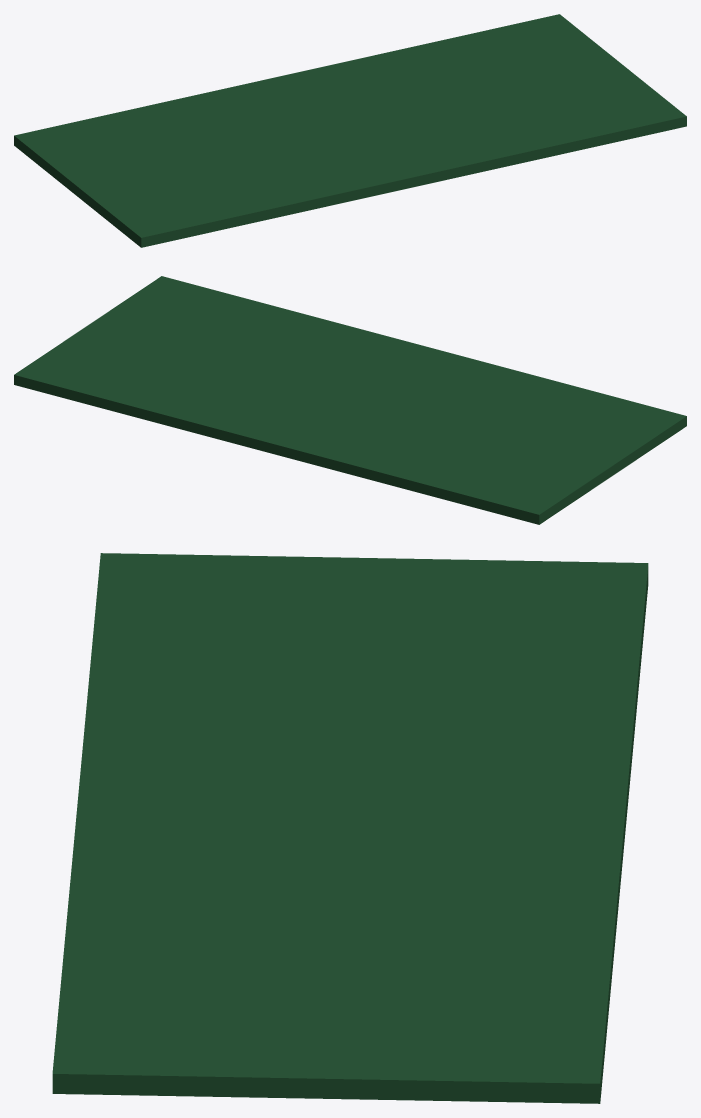
File: Receipt.fbx
3 renders of one model, top to bottom at view 1: azimuth 30°, elevation 25°; view 2: azimuth 150°, elevation 25°; view 3: azimuth 270°, elevation 25°, orthographic. The views are drawn at different scales.
Visible parts, largest first — view 1: Receipt; view 2: Receipt; view 3: Receipt.
Part boxes in pixels (left/top/right/bottom): Receipt: left=14, top=14, right=686, bottom=247; Receipt: left=14, top=276, right=686, bottom=524; Receipt: left=52, top=553, right=648, bottom=1103.
Size of the model in its own units: 45.78 by 0.8299 by 21.74.
